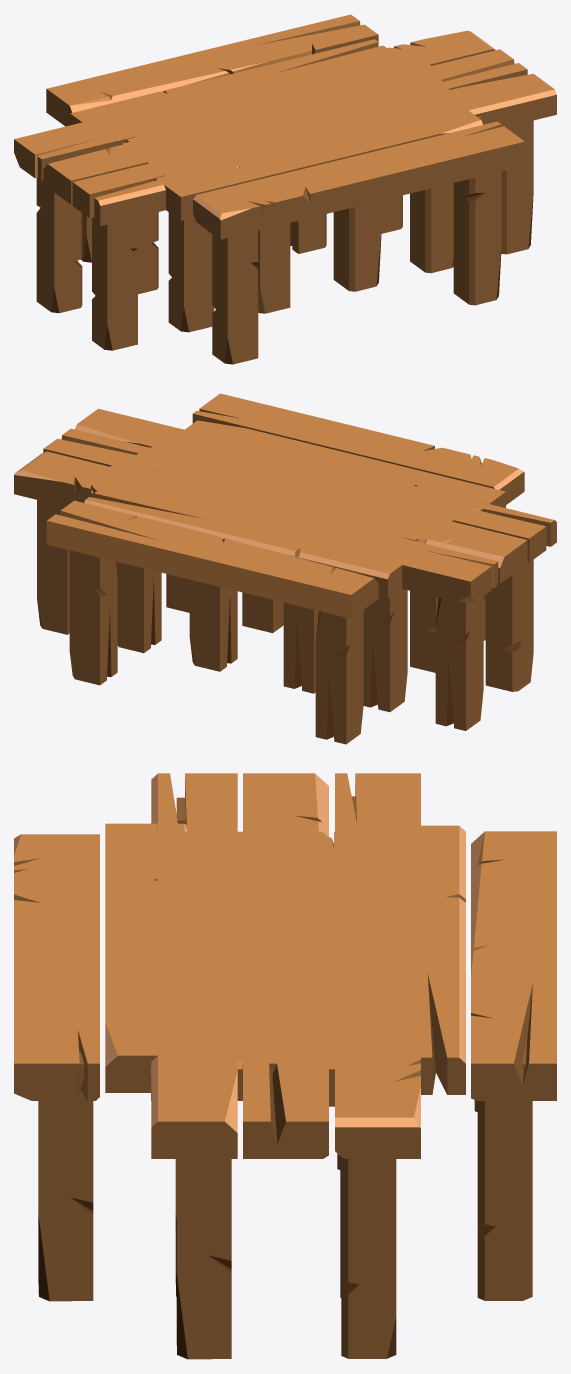
The model's file is Table.fbx.
3 views of the same model, one above another, from view 1: azimuth 30°, elevation 25°; view 2: azimuth 150°, elevation 25°; view 3: azimuth 270°, elevation 25° (orthographic). The views are drawn at different scales.
Parts seen in each view (by area): view 1: 2x2, 3x1, 2x1, 1x1; view 2: 2x2, 3x1, 2x1, 1x1; view 3: 2x2, 3x1, 2x1, 1x1.
Boxes of the visible parts, box(x1,y1,x2,y2) form: 2x2: box(46, 14, 524, 364); 3x1: box(14, 30, 556, 350); 2x1: box(101, 62, 480, 332); 1x1: box(191, 93, 386, 313); 2x2: box(46, 393, 524, 744); 3x1: box(14, 408, 556, 730); 2x1: box(91, 429, 478, 712); 1x1: box(189, 449, 401, 693); 2x2: box(14, 823, 556, 1301); 3x1: box(151, 773, 420, 1359); 2x1: box(151, 831, 419, 1297); 1x1: box(162, 891, 394, 1169).
Size of the model in its own units: 600 by 200 by 395.
